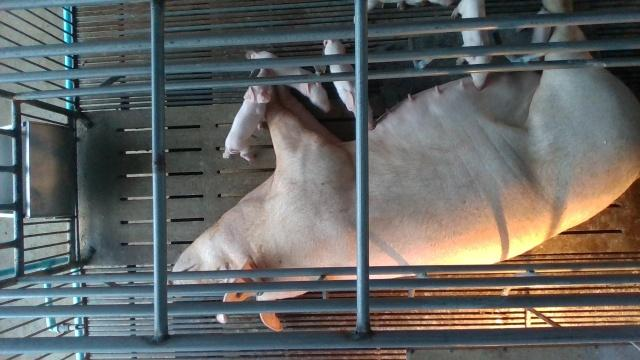piglet: (249, 50, 332, 113), (322, 39, 374, 132), (223, 69, 272, 159), (449, 0, 493, 89), (517, 8, 554, 62)
sow-sleep-lactate: (171, 0, 640, 330)
